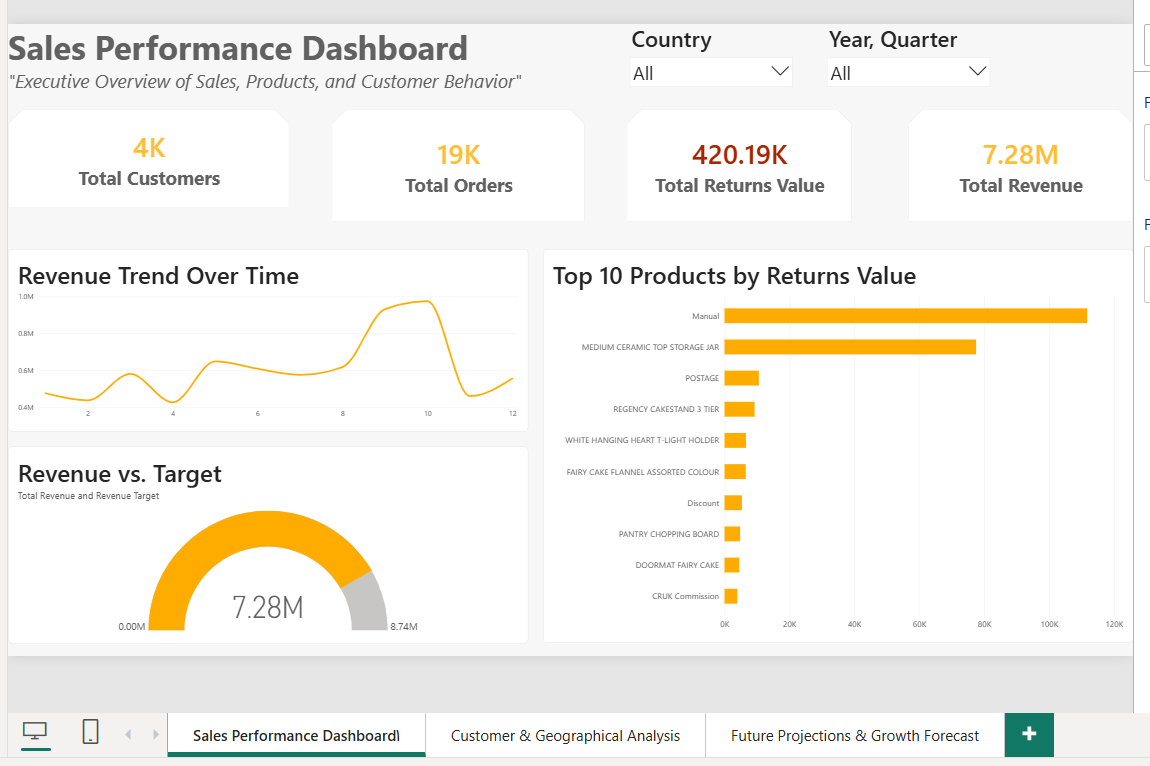

This screenshot's page, from the dashboard's own definition file:
{"tool":"powerbi","page":{"name":"Sales Performance Dashboard١","canvas":[1920,1080],"ordinal":0},"visuals":[{"type":"textbox","box":[0,0,912,288],"z":0},{"type":"cardVisual","fields":{"Data":["clean_data.Total Customers"]},"box":[0,144,480,168],"z":1},{"type":"cardVisual","fields":{"Data":["clean_data.Total Orders"]},"box":[552,144,432,192],"z":2},{"type":"cardVisual","fields":{"Data":["clean_data.Total Returns Value"]},"box":[1056,144,384,192],"z":3},{"type":"cardVisual","fields":{"Data":["clean_data.Total Revenue"]},"box":[1536,144,384,192],"z":4},{"type":"slicer","fields":{"Values":["clean_data.Country"]},"box":[1056,0,288,144],"z":5},{"type":"slicer","fields":{"Values":["Dim_clender.Year","Dim_clender.Quarter"]},"box":[1392,0,288,144],"z":6},{"type":"lineChart","title":"Revenue Trend Over Time","fields":{"Category":["Dim_clender.Month","Dim_clender.Year"],"Y":["clean_data.Total Revenue"]},"box":[0,384,888,312],"z":7},{"type":"clusteredBarChart","title":"Top 10 Products by Returns Value","fields":{"Category":["Dim_Product.Description"],"Y":["clean_data.Total Returns Value"]},"box":[912,384,1008,672],"z":8},{"type":"gauge","title":"Revenue vs. Target","fields":{"MaxValue":["clean_data.Revenue Target"],"Y":["clean_data.Total Revenue"]},"box":[0,720,888,336],"z":9}]}

Visuals, with their boxes on the page's 1920x1080 design canvas (x1, y1, x2, y2). These are canvas units, not pixel positions in the 1150x766 screenshot, which may show the page scaled, cropped or inside an application window:
textbox: (0,0,912,288)
cardVisual - clean_data.Total Customers: (0,144,480,312)
cardVisual - clean_data.Total Orders: (552,144,984,336)
cardVisual - clean_data.Total Returns Value: (1056,144,1440,336)
cardVisual - clean_data.Total Revenue: (1536,144,1920,336)
slicer - clean_data.Country: (1056,0,1344,144)
slicer - Dim_clender.Year x Dim_clender.Quarter: (1392,0,1680,144)
"Revenue Trend Over Time" lineChart: (0,384,888,696)
"Top 10 Products by Returns Value" clusteredBarChart: (912,384,1920,1056)
"Revenue vs. Target" gauge: (0,720,888,1056)
